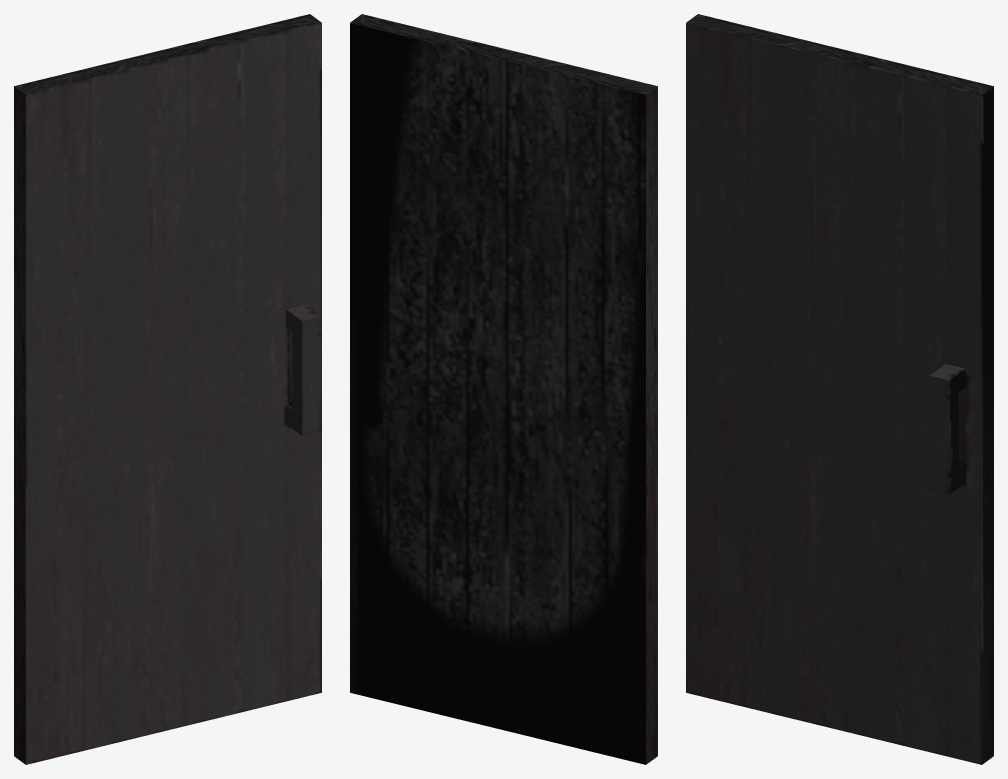
The model's file is LeverFixerLeftDoor.fbx.
The picture shows the model from 3 angles, left to right: view 1: azimuth 30°, elevation 25°; view 2: azimuth 150°, elevation 25°; view 3: azimuth 330°, elevation 25°; orthographic projection.
Visible parts, largest first — view 1: LeverFixerLeftDoor; view 2: LeverFixerLeftDoor; view 3: LeverFixerLeftDoor.
Part boxes in pixels (x1,y1,x2,y2): LeverFixerLeftDoor: [14, 14, 321, 764]; LeverFixerLeftDoor: [350, 14, 657, 764]; LeverFixerLeftDoor: [686, 14, 993, 764].
Size of the model in its own units: 0.5601 by 1.21 by 0.0928.
